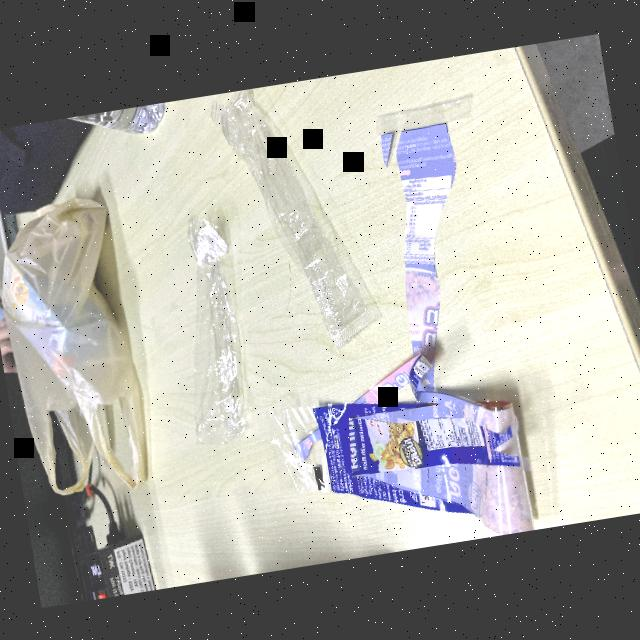scrap_plastic: (268, 354, 542, 562), (214, 75, 378, 352), (152, 202, 270, 458)
